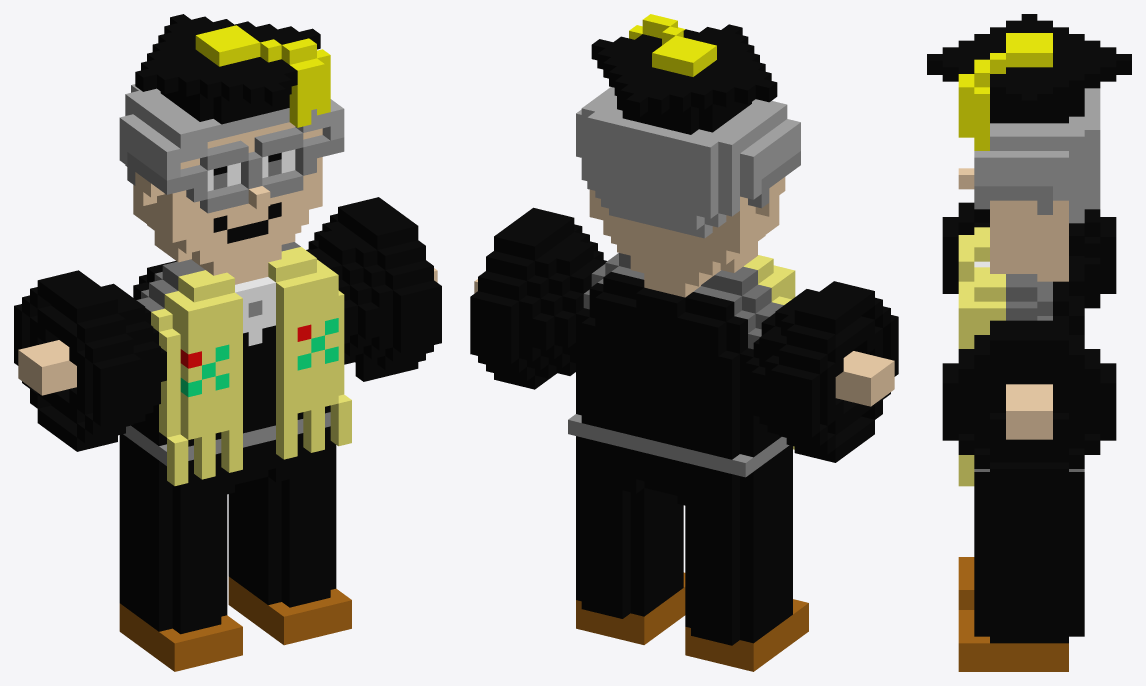
Rendered from gakutyou.glb.
3 renders of one model, left to right at view 1: azimuth 30°, elevation 25°; view 2: azimuth 150°, elevation 25°; view 3: azimuth 270°, elevation 25°, orthographic.
Visible parts, largest first — view 1: Untitled; view 2: Untitled; view 3: Untitled.
Part boxes in pixels (x1,y1,x2,y2): Untitled: (14,14,441,671); Untitled: (470,14,898,671); Untitled: (927,14,1131,671).
Size of the model in its own units: 0.58 by 0.82 by 0.26.
Materials: 1 (1 with a texture image).
